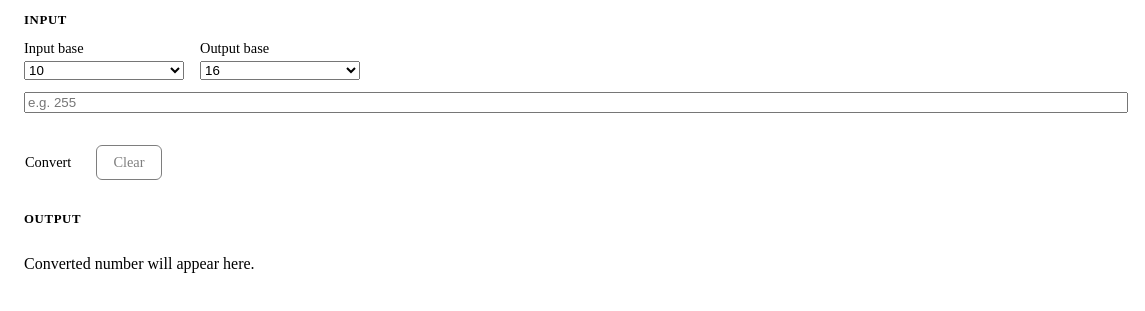
Test: NumberBaseConverterTool › converts decimal to hexadecimal with the default bases
In the field named "Number input": (576, 102) [24,92,1128,113], type "255"
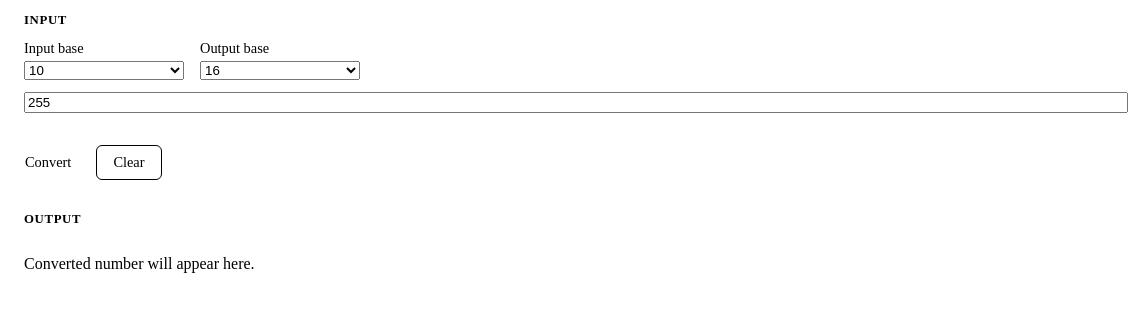
Click the button "Convert": (48, 162) [8,145,88,180]
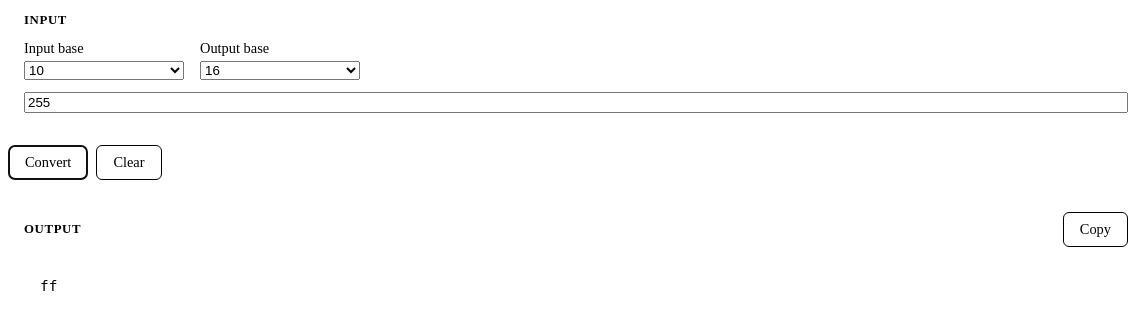
Result: the text with test id "number-output" reads "ff" at [40,278,57,294]
Result: the button "Copy" is enabled at [1063,212,1128,247]
